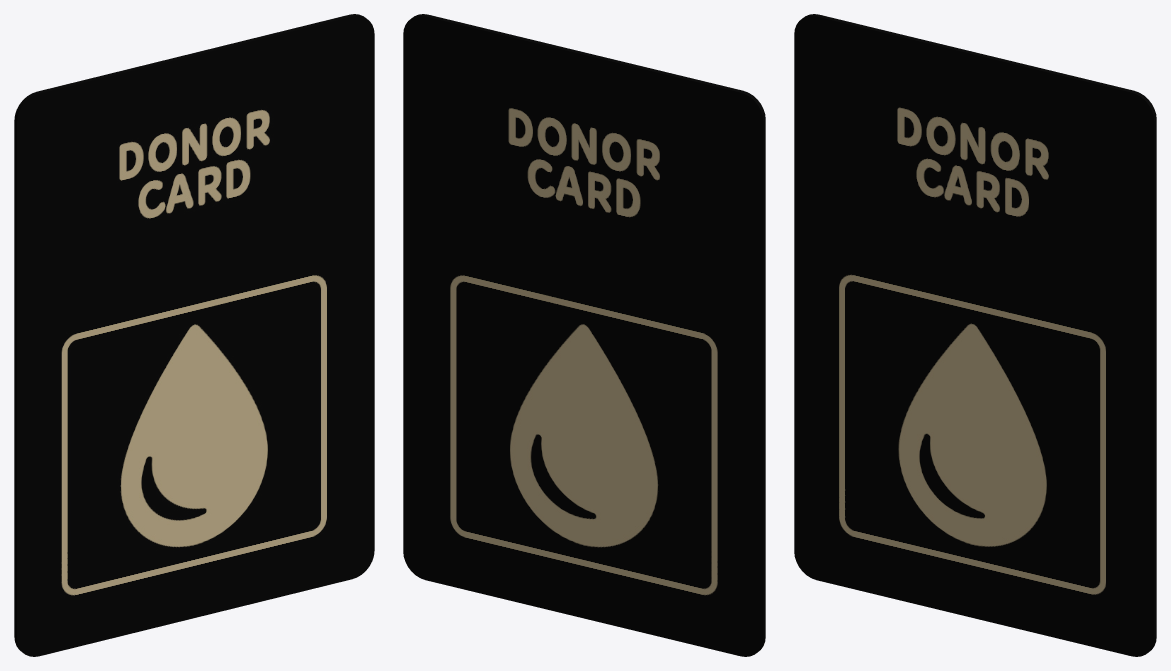
File: donor-card.glb
3 renders of one model, left to right at view 1: azimuth 30°, elevation 25°; view 2: azimuth 150°, elevation 25°; view 3: azimuth 330°, elevation 25°, orthographic.
Parts seen in each view (by area): view 1: Card Black; view 2: Card Black; view 3: Card Black.
Part boxes in pixels (x1=…): Card Black: x1=14, y1=14, x2=374, y2=656; Card Black: x1=403, y1=14, x2=765, y2=656; Card Black: x1=794, y1=14, x2=1156, y2=656.
Bounding box in the file's own units: 0.08 × 0.12 × 0.00133.
1 material, 1 textured.
